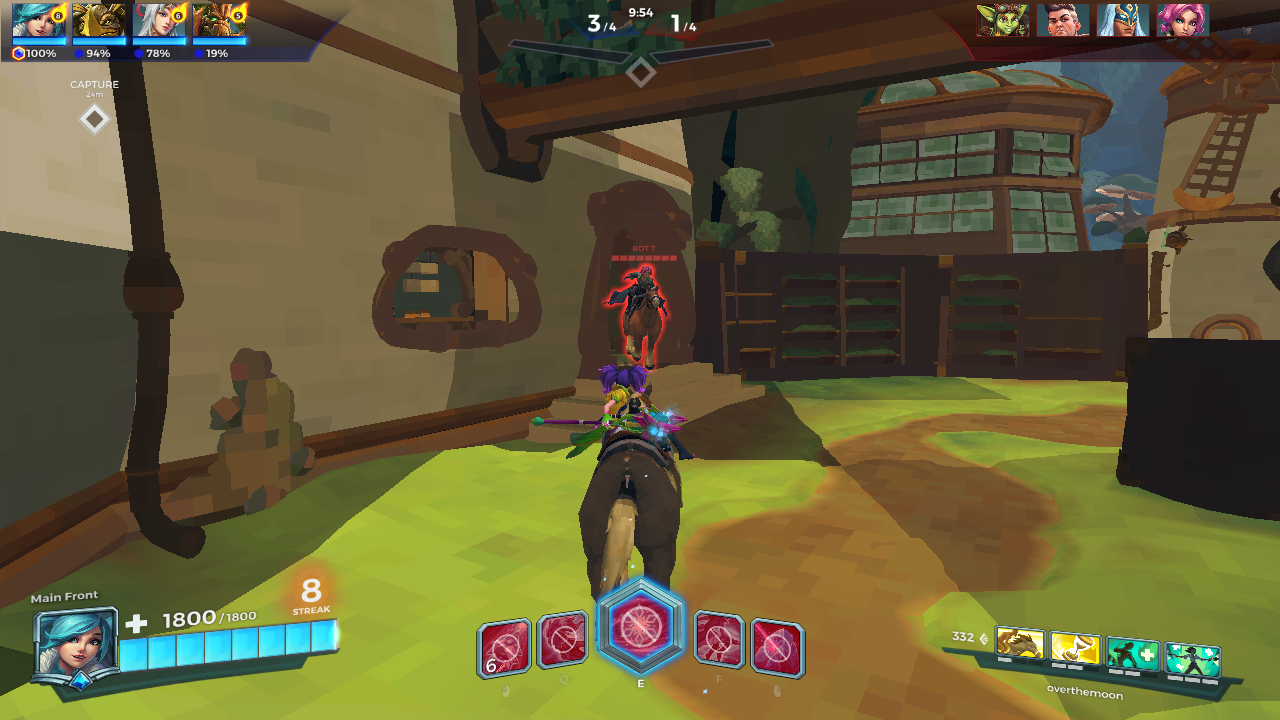model: (611, 262, 668, 367)
